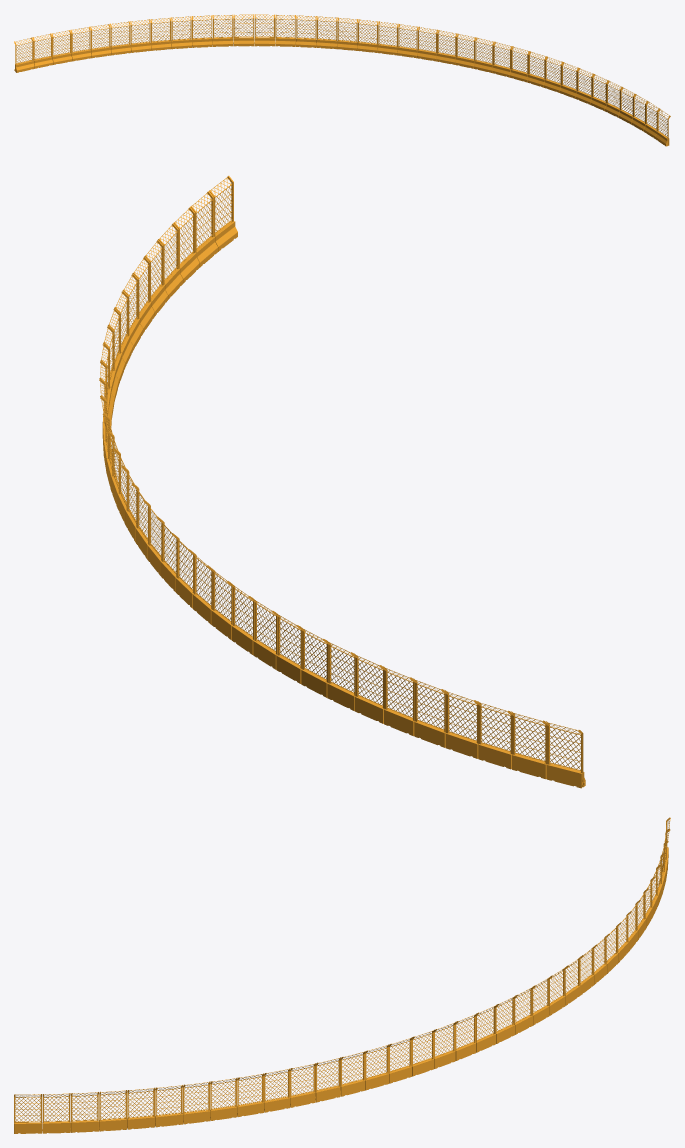
The model's file is SM_Fence_Road_Debrisguard_Net_60m_Corner_Inner.fbx.
3 views of the same model, one above another, from view 1: azimuth 30°, elevation 25°; view 2: azimuth 150°, elevation 25°; view 3: azimuth 270°, elevation 25° (orthographic). The views are drawn at different scales.
Visible parts, largest first — view 1: SM_Fence_Road_Debrisguard_Net_60m_Corner_Inner; view 2: SM_Fence_Road_Debrisguard_Net_60m_Corner_Inner; view 3: SM_Fence_Road_Debrisguard_Net_60m_Corner_Inner.
Part boxes in pixels (left/top/right/bottom): SM_Fence_Road_Debrisguard_Net_60m_Corner_Inner: left=14, top=14, right=670, bottom=146; SM_Fence_Road_Debrisguard_Net_60m_Corner_Inner: left=99, top=175, right=585, bottom=788; SM_Fence_Road_Debrisguard_Net_60m_Corner_Inner: left=14, top=817, right=670, bottom=1133.
Bounding box in the file's own units: 59.43 × 4.03 × 59.32.
